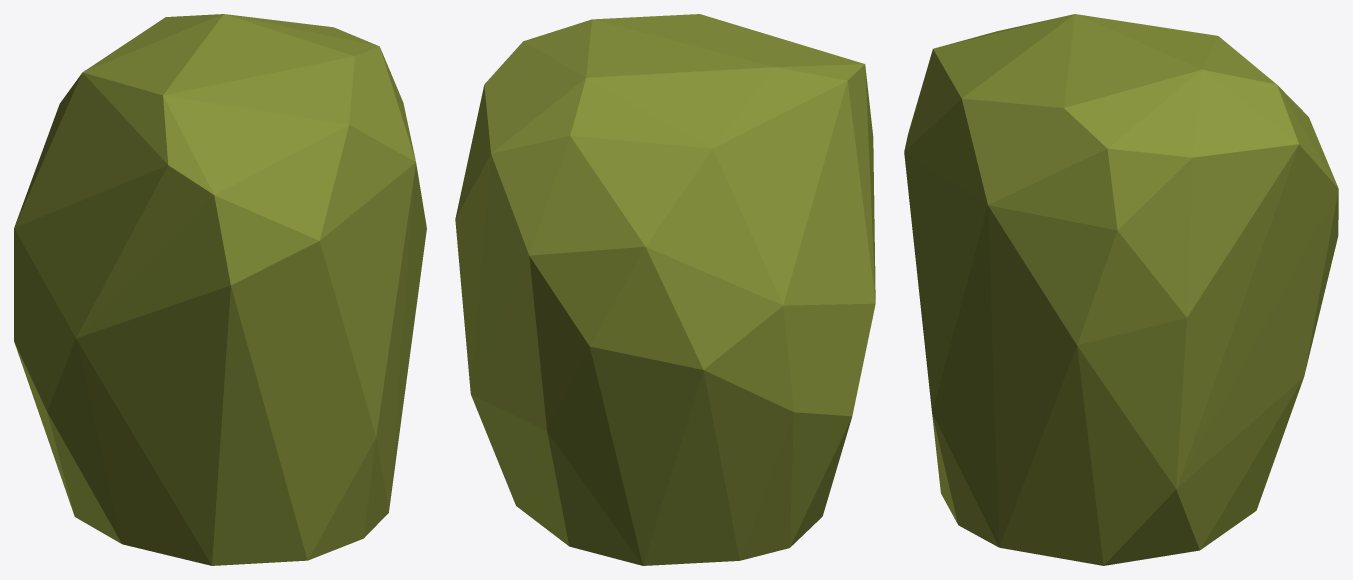
Rendered from ea_swamp_grass_02e_pre__23__lev1.glb.
3 views of the same model, side by side, from view 1: azimuth 30°, elevation 25°; view 2: azimuth 150°, elevation 25°; view 3: azimuth 270°, elevation 25° (orthographic).
Visible parts, largest first — view 1: ea_swamp_grass_02e_pre__23__lev1; view 2: ea_swamp_grass_02e_pre__23__lev1; view 3: ea_swamp_grass_02e_pre__23__lev1.
Boxes of the visible parts, x1,y1,x2,y2 form: ea_swamp_grass_02e_pre__23__lev1: (14, 14, 426, 565); ea_swamp_grass_02e_pre__23__lev1: (455, 14, 875, 565); ea_swamp_grass_02e_pre__23__lev1: (904, 14, 1338, 565).
Bounding box in the file's own units: 2.03 × 2.37 × 2.09.
Materials: 1 (1 with a texture image).
